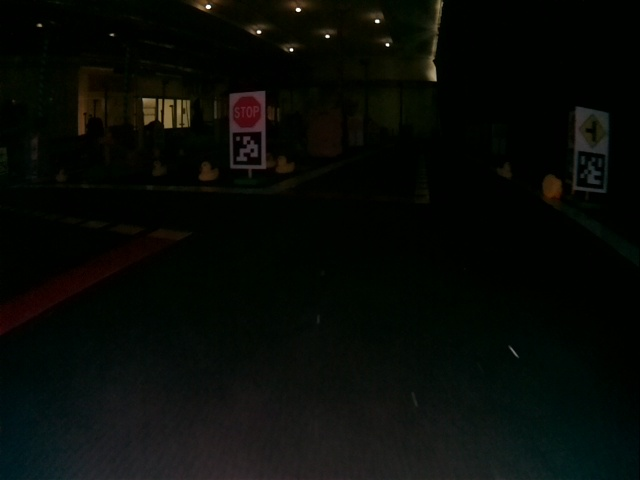Duckie: (200, 162, 215, 181), (277, 158, 294, 173)
QR code: (231, 134, 263, 168), (575, 153, 603, 187)
Stop sign: (231, 90, 265, 129)
